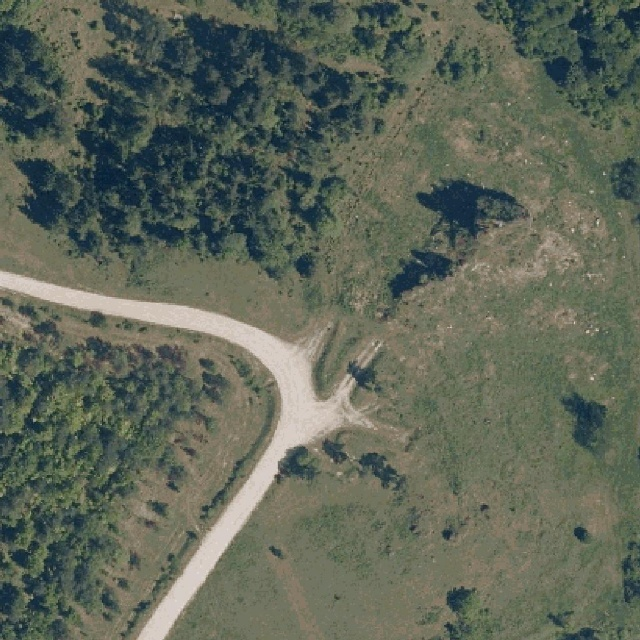vegetation: (0, 0, 490, 299), (0, 303, 225, 640), (475, 0, 640, 127), (396, 192, 532, 299), (574, 400, 605, 454), (617, 162, 640, 205)
